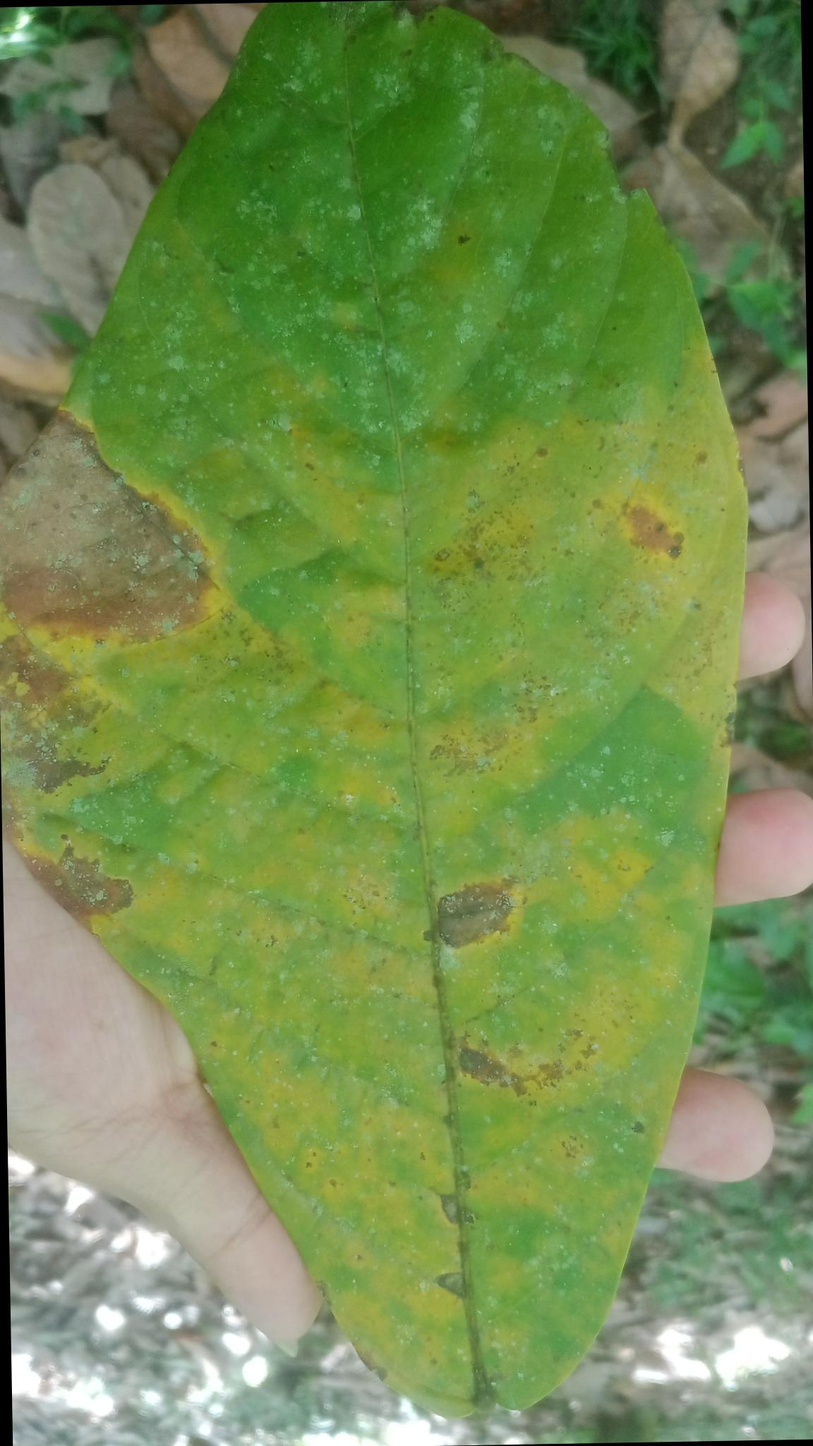Fosforo: (0, 0, 744, 1416)
